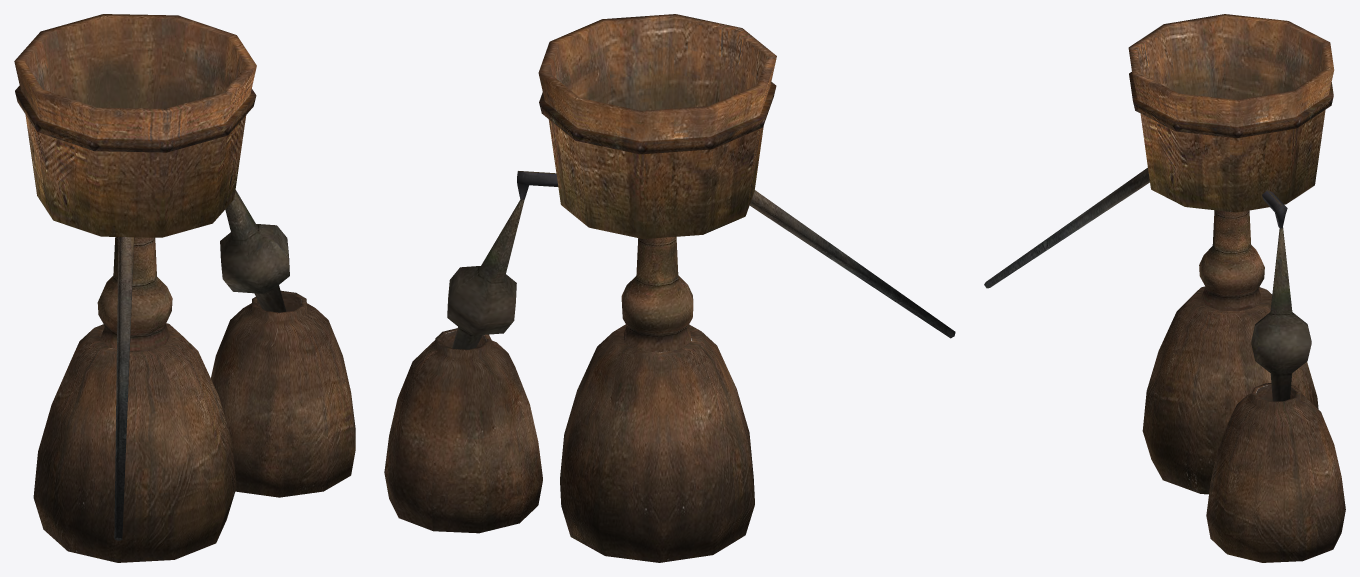
File: bimbrownia.fbx
3 renders of one model, left to right at view 1: azimuth 30°, elevation 25°; view 2: azimuth 150°, elevation 25°; view 3: azimuth 270°, elevation 25°, orthographic. The views are drawn at different scales.
Visible parts, largest first — view 1: szklo_001; view 2: szklo_001; view 3: szklo_001.
Boxes of the visible parts, x1,y1,x2,y2 form: szklo_001: (14,14,355,562); szklo_001: (384,14,955,562); szklo_001: (984,14,1345,562).
Size of the model in its own units: 5.72 by 6.36 by 5.16.
